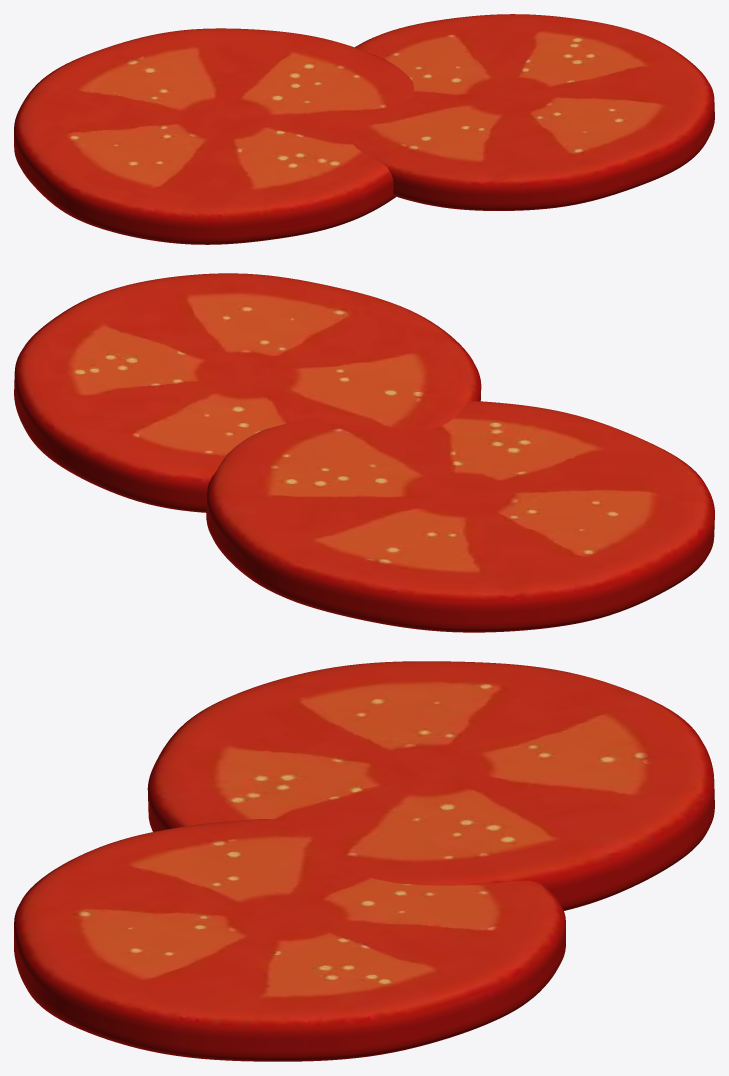
The model's file is veg_tomato.glb.
3 renders of one model, top to bottom at view 1: azimuth 30°, elevation 25°; view 2: azimuth 150°, elevation 25°; view 3: azimuth 270°, elevation 25°, orthographic. The views are drawn at different scales.
Parts seen in each view (by area): view 1: EX_veg_tomato_joined; view 2: EX_veg_tomato_joined; view 3: EX_veg_tomato_joined.
Part boxes in pixels (x1=…): EX_veg_tomato_joined: x1=14, y1=14, x2=714, y2=244; EX_veg_tomato_joined: x1=14, y1=273, x2=714, y2=632; EX_veg_tomato_joined: x1=14, y1=661, x2=714, y2=1061.
Size of the model in its own units: 0.0883 by 0.00751 by 0.067.
1 material, 1 textured.
